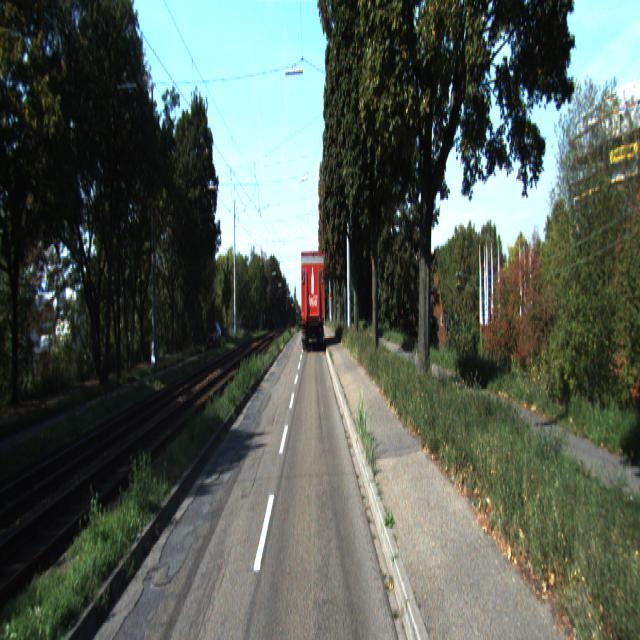Car: (299, 249, 326, 353), (205, 321, 221, 351)
